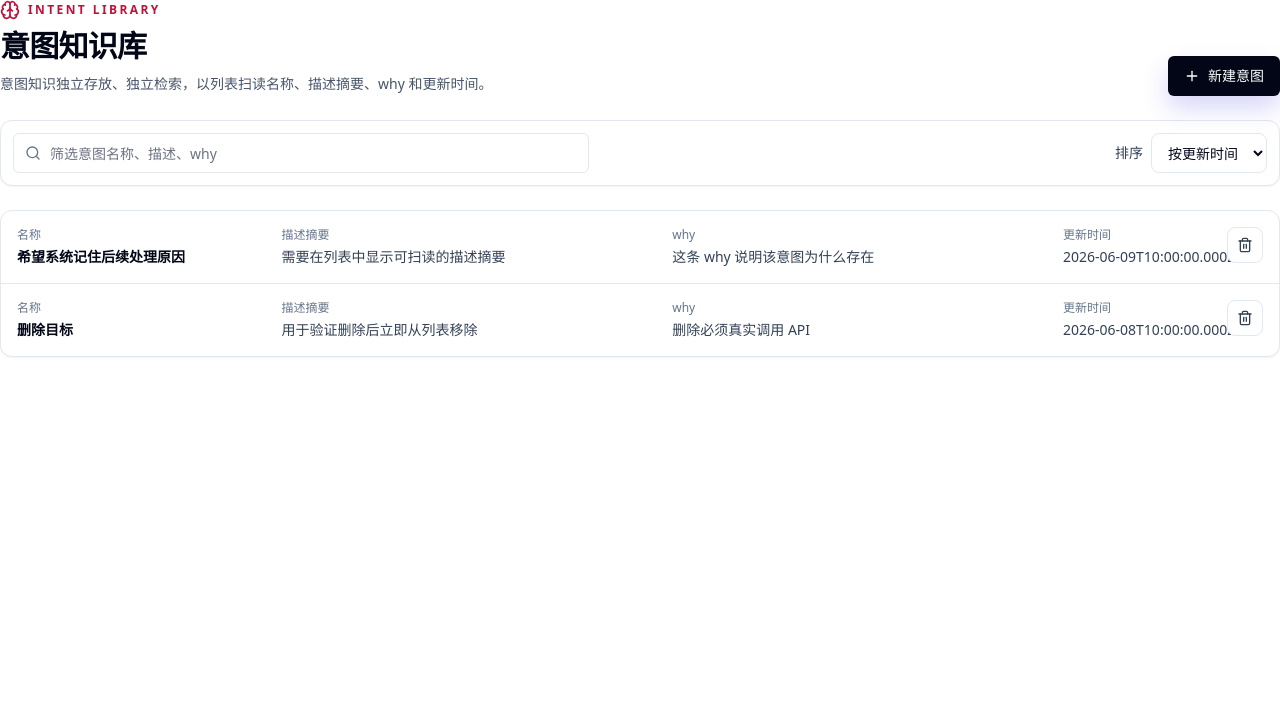
IntentPage FR-W15 UX › deletes through the backend API and removes the item from the visible list
Click the button named "删除 删除目标" at (1245, 318), box [1227, 300, 1263, 336]
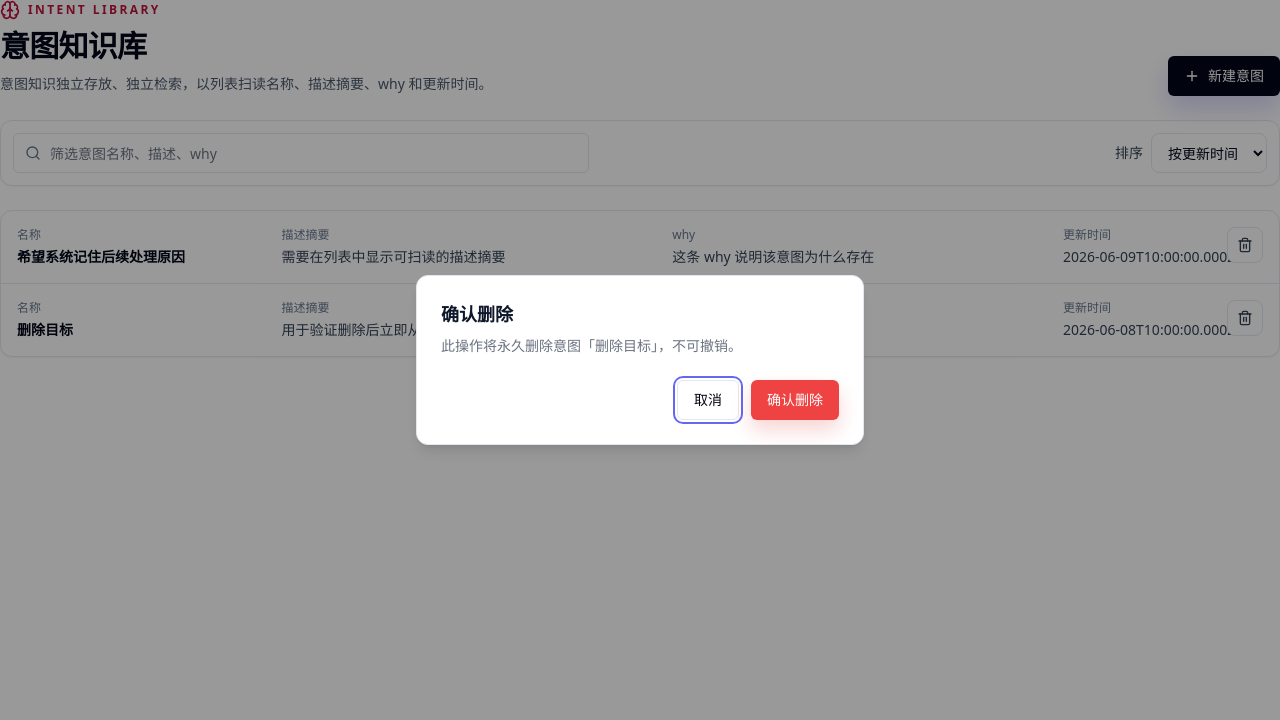
Click the button "确认删除" at (795, 400), box [751, 380, 839, 420]
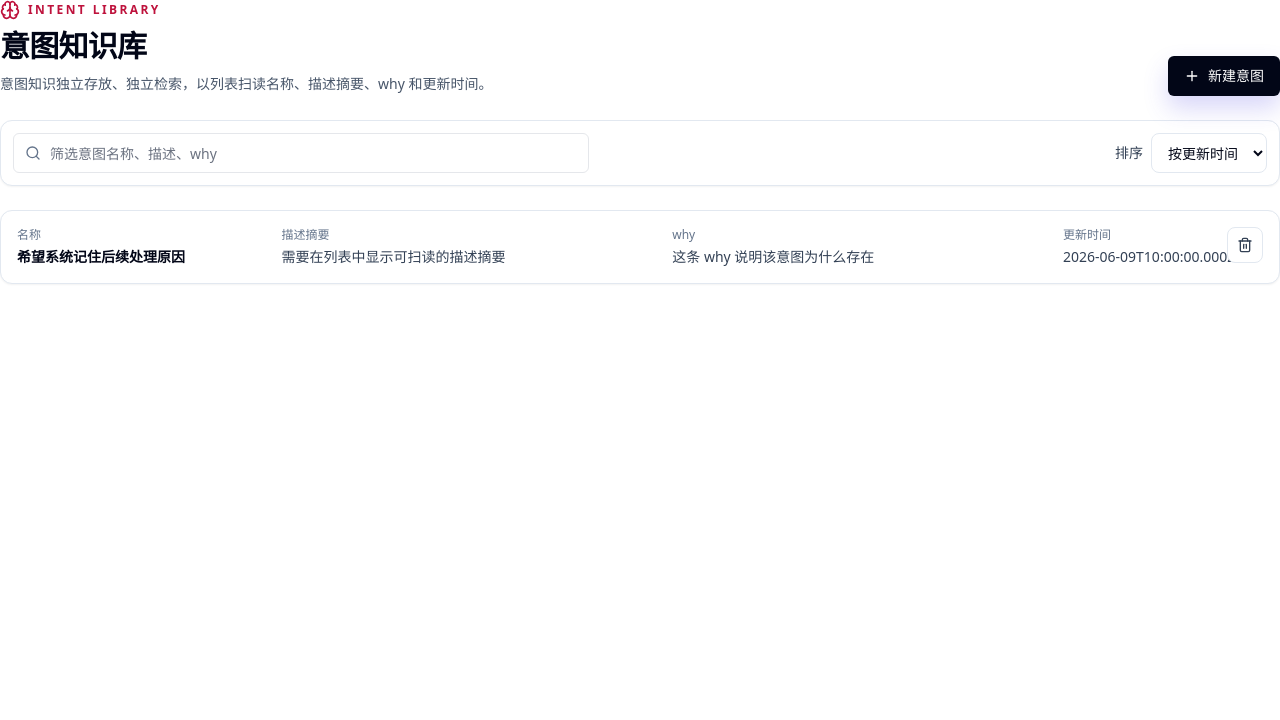
Expected: the link "删除目标" is gone
